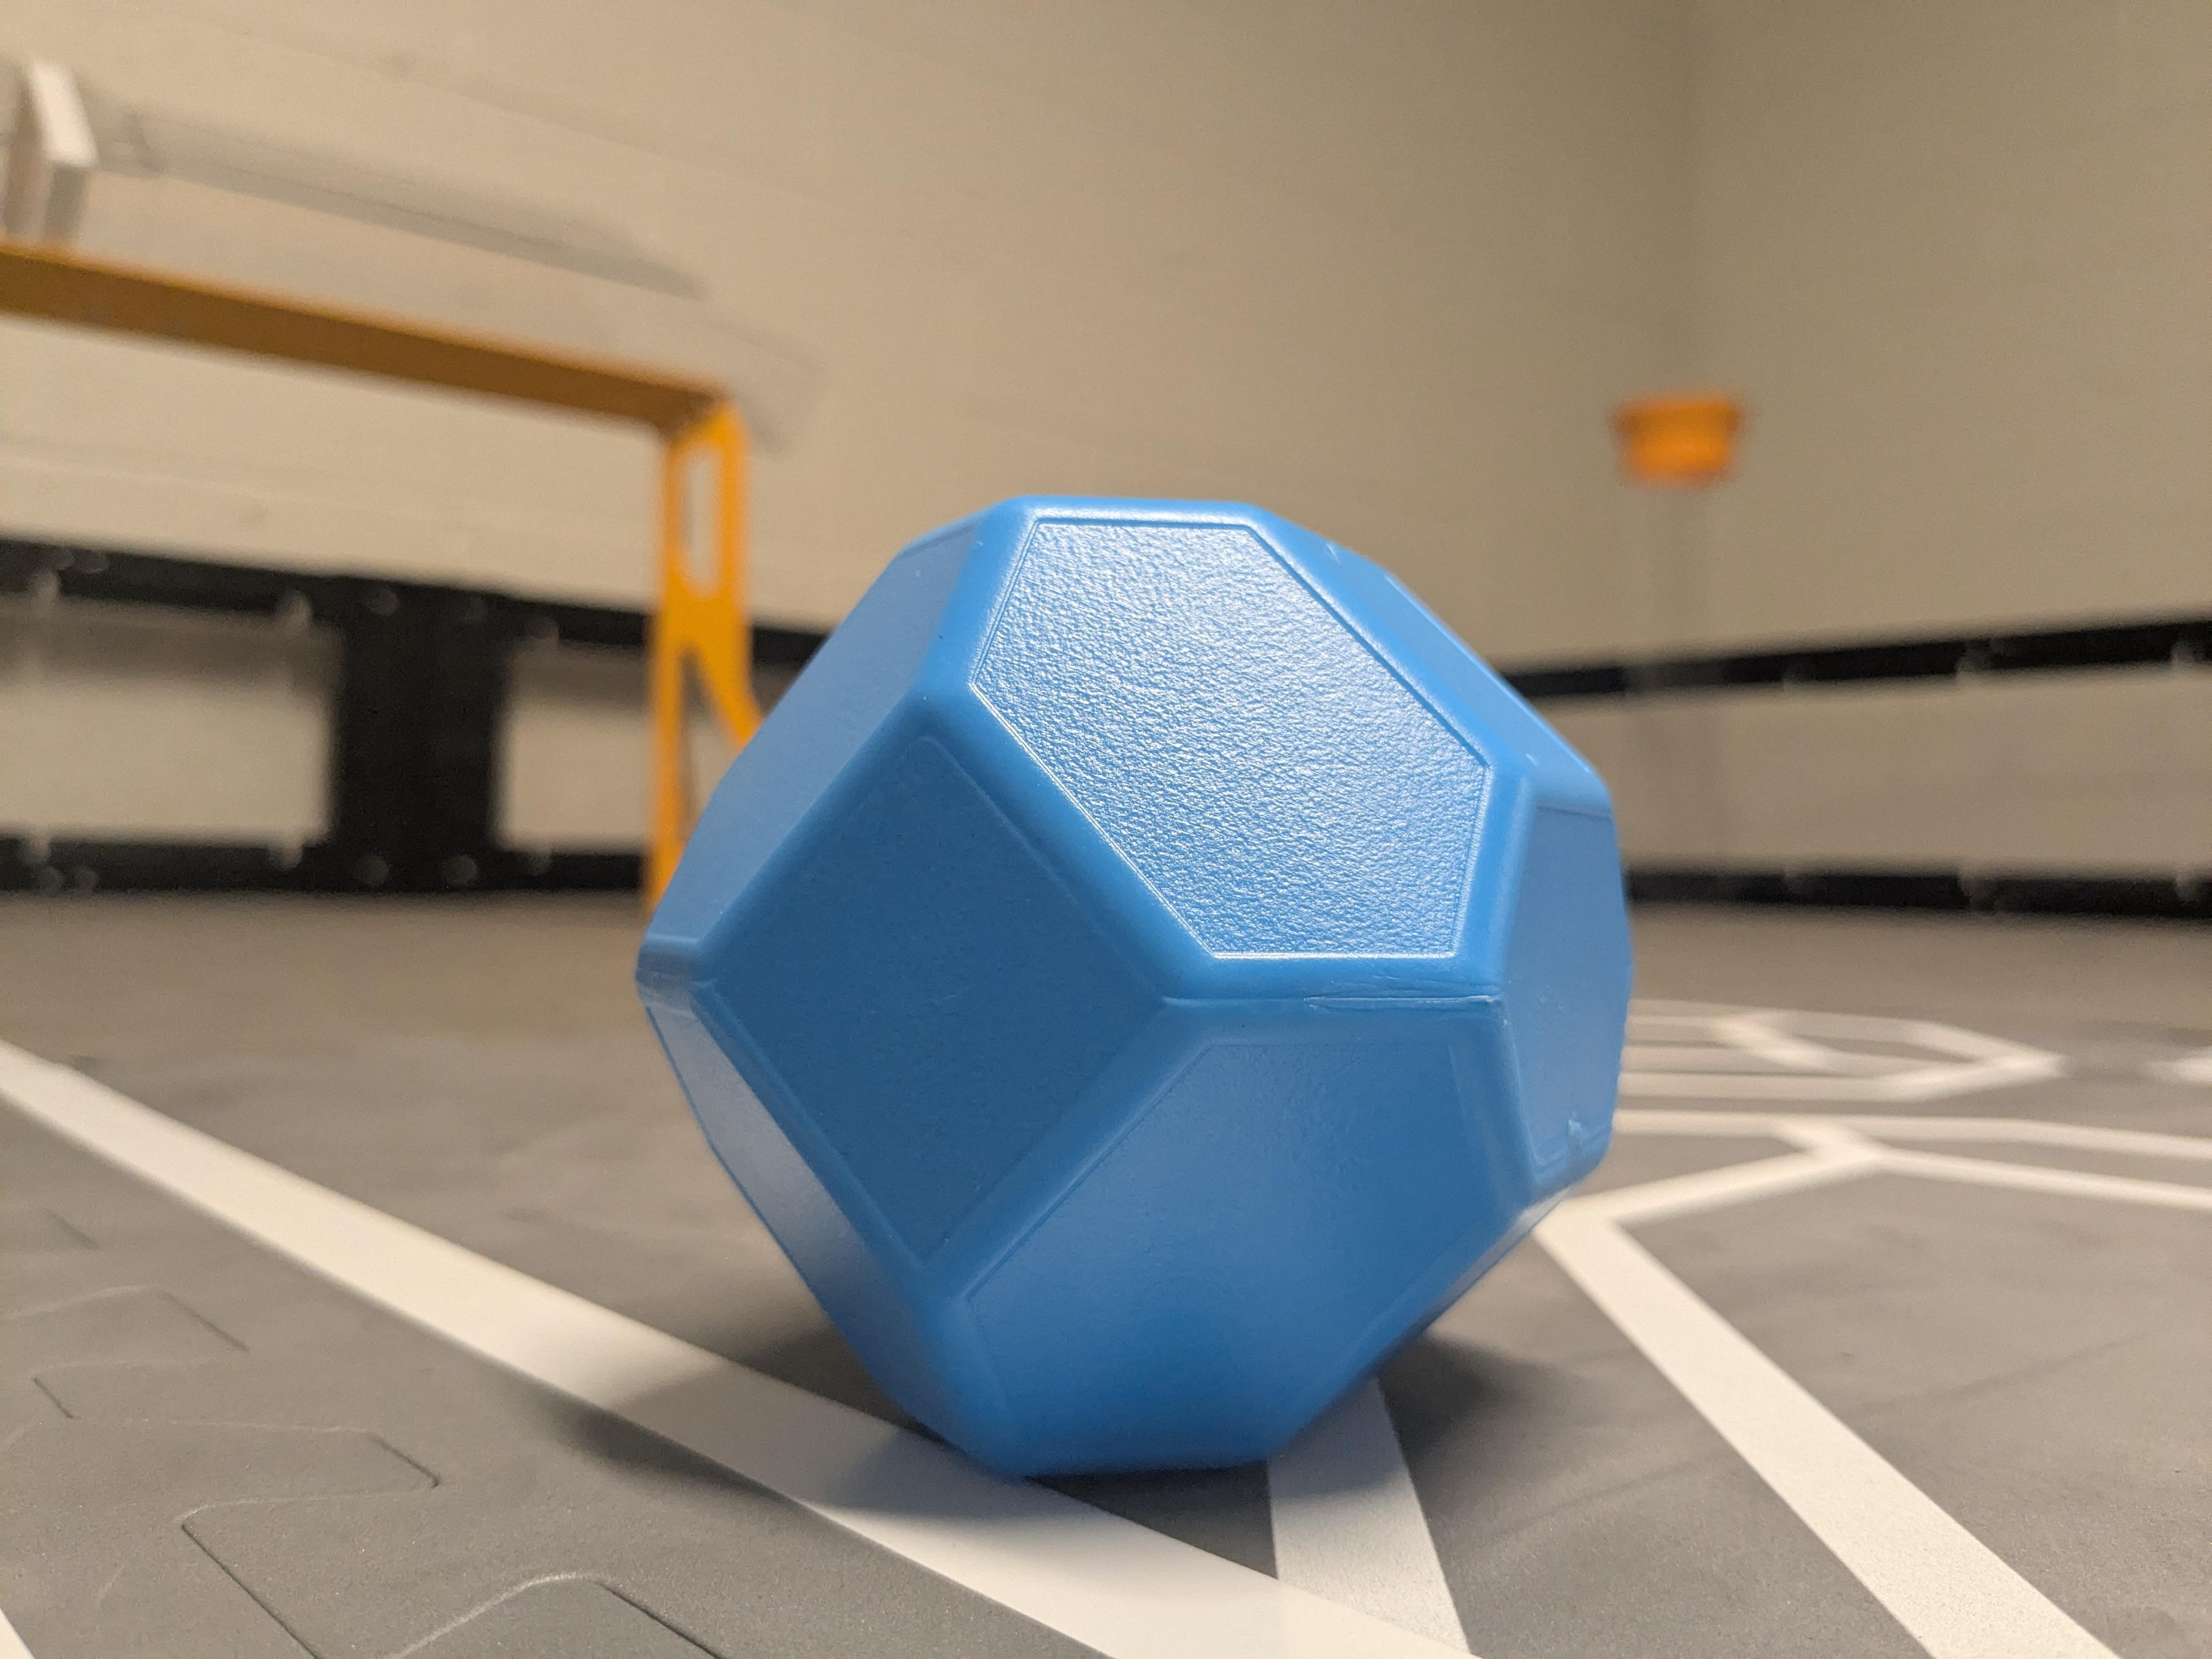Vex-Pieces-BLUE: (636, 498, 1629, 1474)
